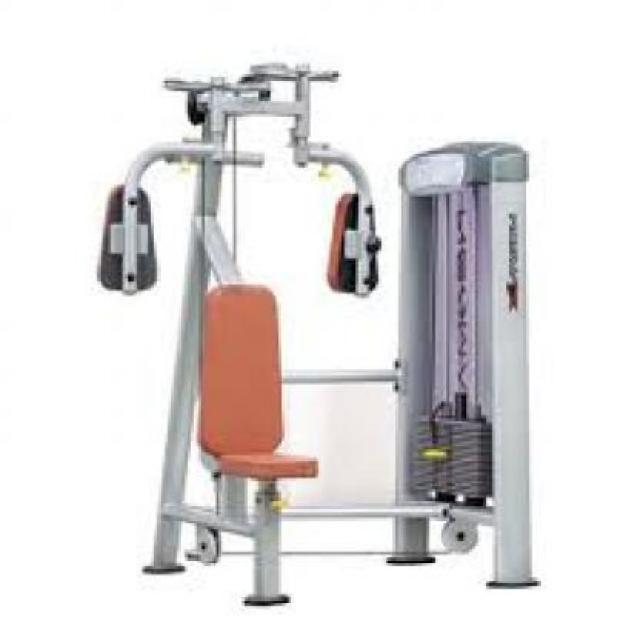chest fly machine: (41, 45, 572, 612)
